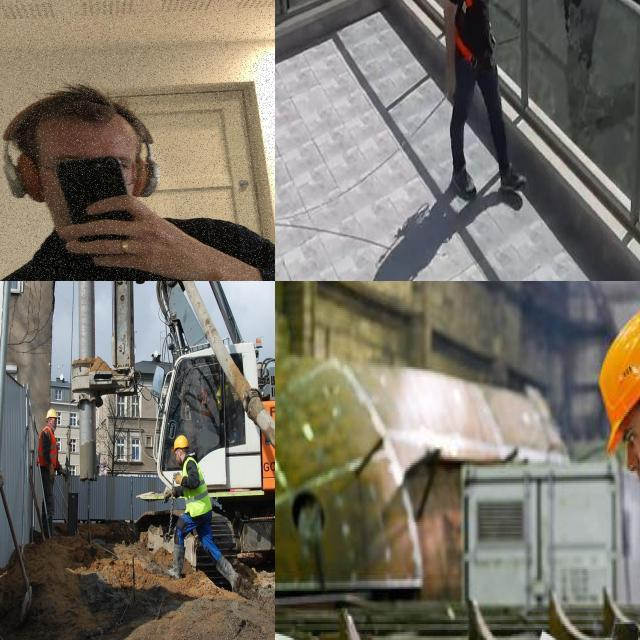Ear-protection: (0, 146, 181, 204)
Harness: (456, 0, 478, 63)
No_Glasses: (622, 414, 640, 445)
boots: (215, 554, 246, 597), (164, 543, 185, 580)
hand_glove: (46, 462, 59, 484), (59, 461, 72, 480)
hand_noglove: (174, 469, 181, 487)
head_helmet: (599, 311, 640, 452), (172, 434, 192, 452), (45, 408, 59, 421)
head_nohelmet: (0, 76, 162, 144)
person: (0, 60, 275, 281), (172, 435, 240, 592), (36, 404, 60, 538)
vest: (185, 462, 209, 519), (42, 426, 58, 464)
